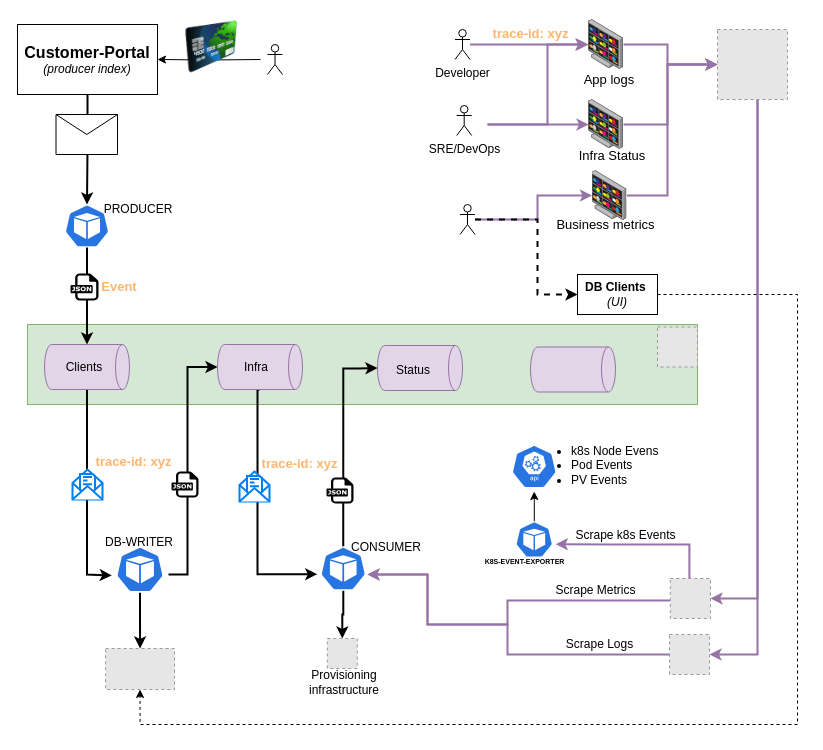
The diagram is 823 pixels wide and 750 high, and some of its shapes have lost their labels. Grey dashed boxes stand in for pictures. The shapes that lost their labels are listed below. From the top down, each one's centre as x and y in pixels, then its label:
the point at 274,59: Client
the point at 86,134: http-post
the point at 467,219: Business Office
the point at 573,369: Queue Otehrs
